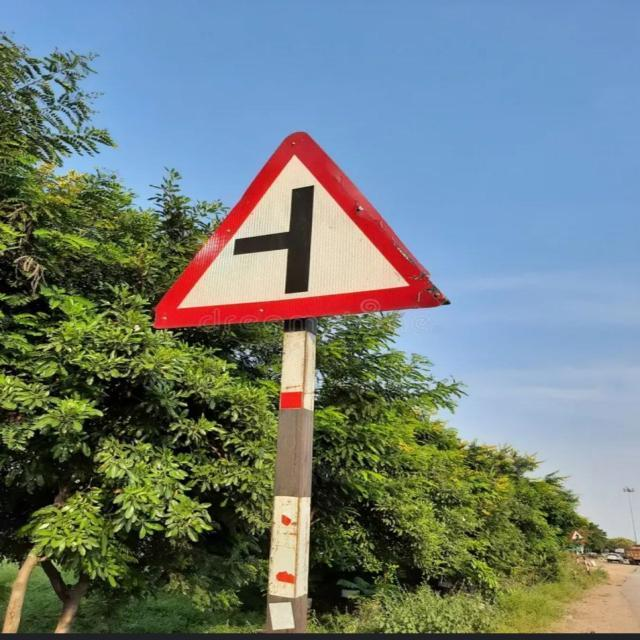side road left: (147, 129, 464, 337)
